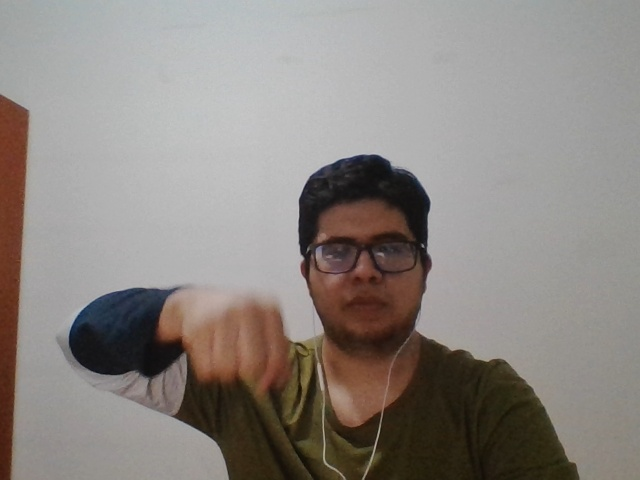Yes: (159, 263, 303, 401)
